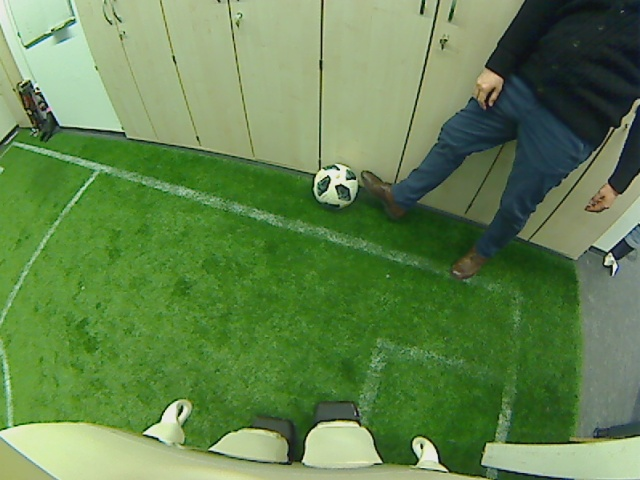ball: (310, 162, 360, 208)
